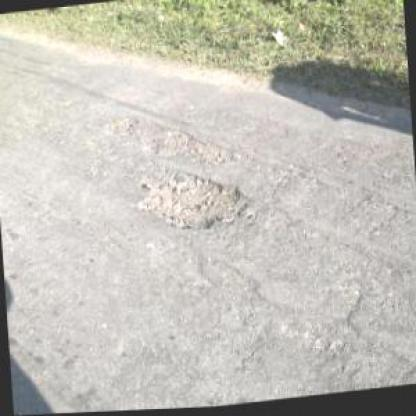pothole: (132, 161, 260, 240), (146, 121, 241, 174), (101, 115, 140, 142)
